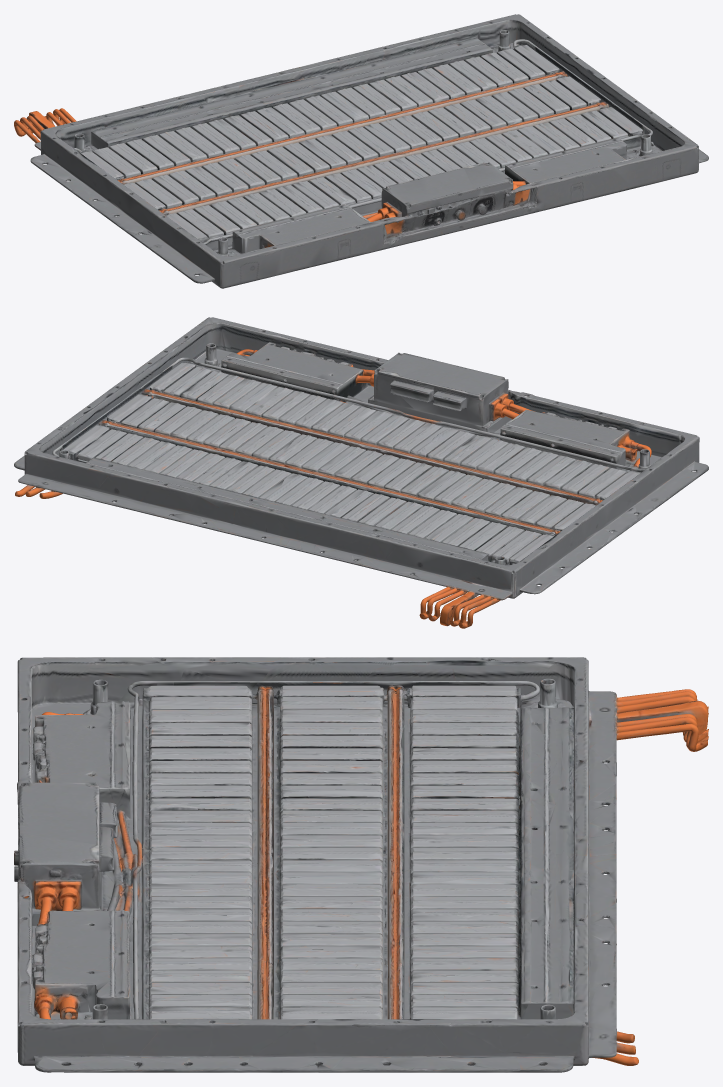
File: baterai-hq.glb
The picture shows the model from 3 angles, top to bottom: view 1: azimuth 30°, elevation 25°; view 2: azimuth 150°, elevation 25°; view 3: azimuth 270°, elevation 25°; orthographic projection. The views are drawn at different scales.
Bounding box in the file's own units: 1.9 × 0.1647 × 1.42.
1 material, 1 textured.
